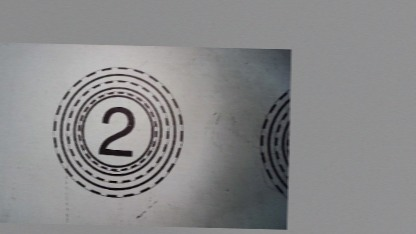2r: (50, 64, 185, 199)
